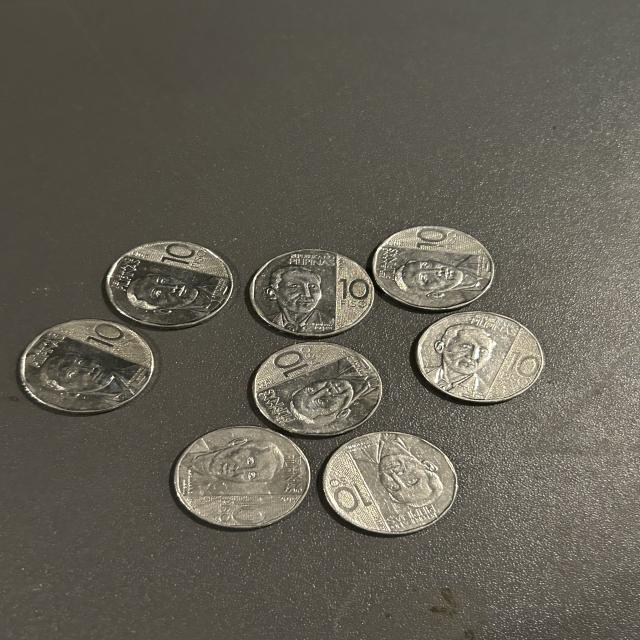10_New_Front: (178, 428, 313, 536), (25, 324, 163, 425), (324, 438, 453, 533), (258, 344, 373, 432), (424, 313, 536, 400), (260, 257, 375, 337), (379, 222, 476, 313), (114, 240, 218, 320)
